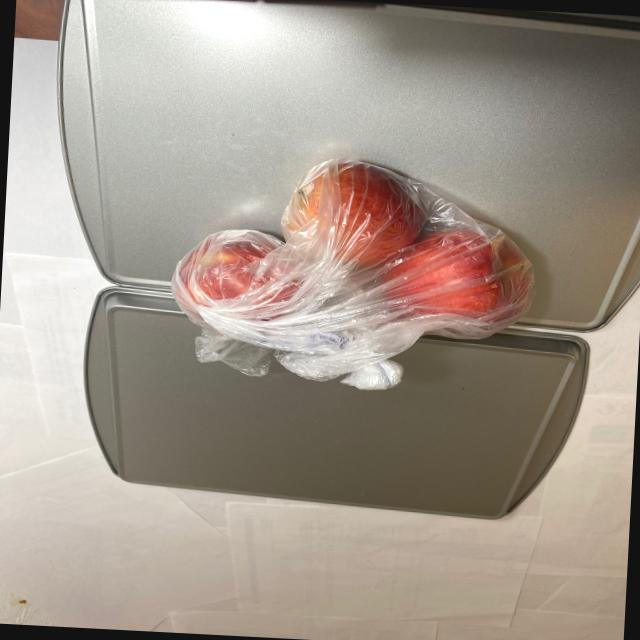apple: (170, 154, 546, 355)
